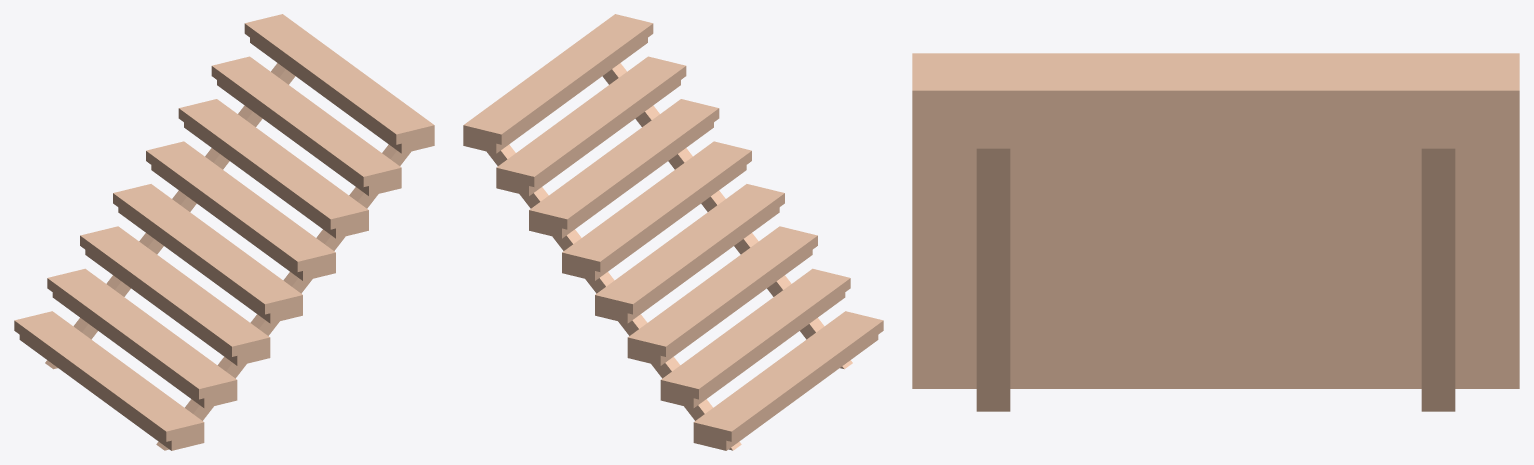
3 renders of one model, left to right at view 1: azimuth 30°, elevation 25°; view 2: azimuth 150°, elevation 25°; view 3: azimuth 270°, elevation 25°, orthographic. The views are drawn at different scales.
Visible parts, largest first — view 1: stairsWideWood; view 2: stairsWideWood; view 3: stairsWideWood.
Part boxes in pixels (x1,y1,x2,y2): stairsWideWood: (14,14,434,450); stairsWideWood: (463,14,883,450); stairsWideWood: (912,53,1519,411).
Size of the model in its own units: 1.02 by 1 by 1.
